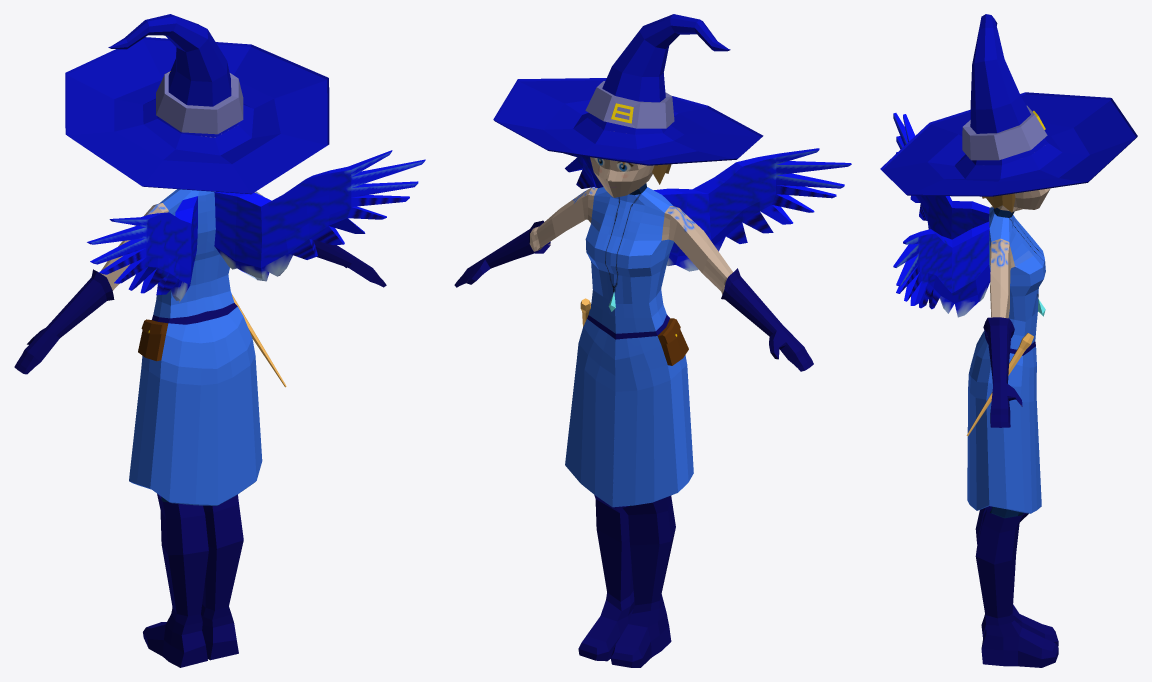
The model's file is Aquarica.fbx.
3 renders of one model, left to right at view 1: azimuth 30°, elevation 25°; view 2: azimuth 150°, elevation 25°; view 3: azimuth 270°, elevation 25°, orthographic. The views are drawn at different scales.
Parts seen in each view (by area): view 1: Cube.001; view 2: Cube.001; view 3: Cube.001.
Part boxes in pixels (<box>): Cube.001: <box>14,14,425,667</box>; Cube.001: <box>454,14,851,667</box>; Cube.001: <box>880,14,1137,667</box>.
Size of the model in its own units: 307 by 528 by 201.
Materials: 1 (1 with a texture image).
